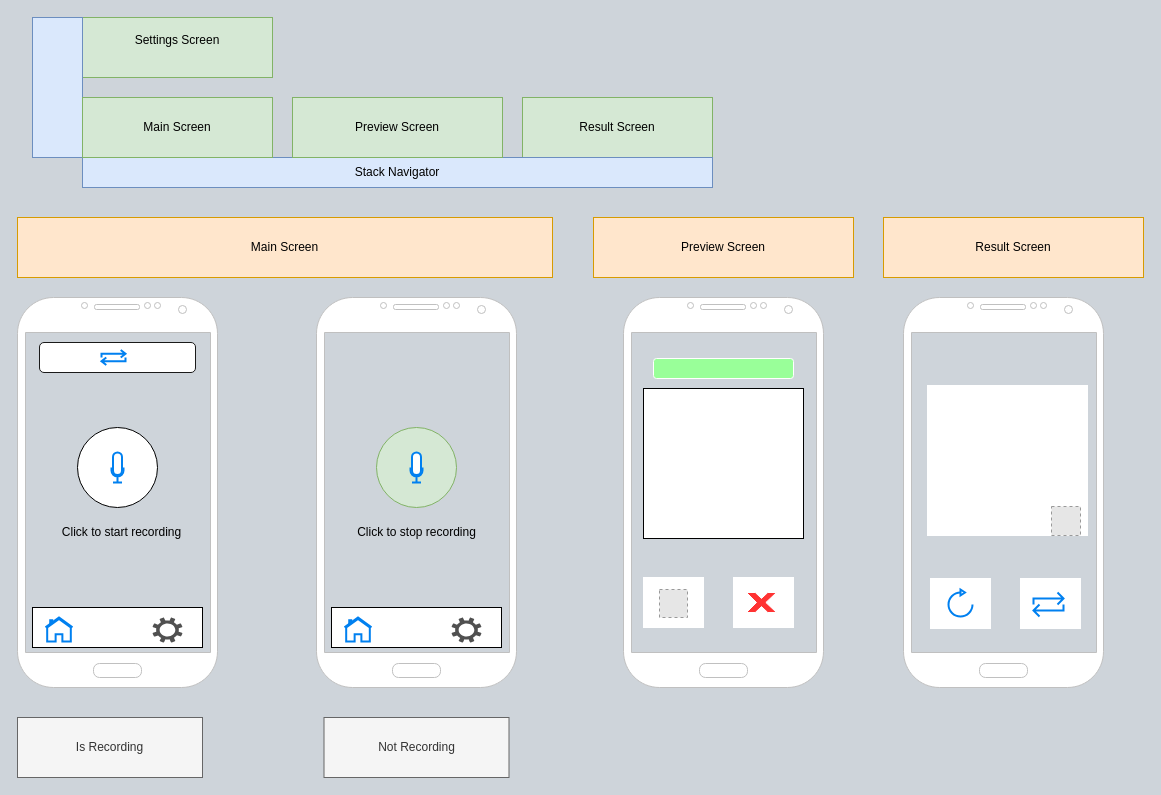
The diagram is 1161 pixels wide and 795 high, and some of its shapes have lost their labels. Grey dashed boxes stand in for pictures. The shapes that lost their labels are listed below. From the top down, each one's box as (x1, y1, x2, y2) in pixels, then its label:
(32, 16, 82, 158): Bottom Tab Navigator
(38, 342, 196, 372): EN RU
(652, 358, 794, 378): Is That Correct ?
(642, 388, 804, 538): TEXT
(926, 384, 1088, 536): Translated Text
